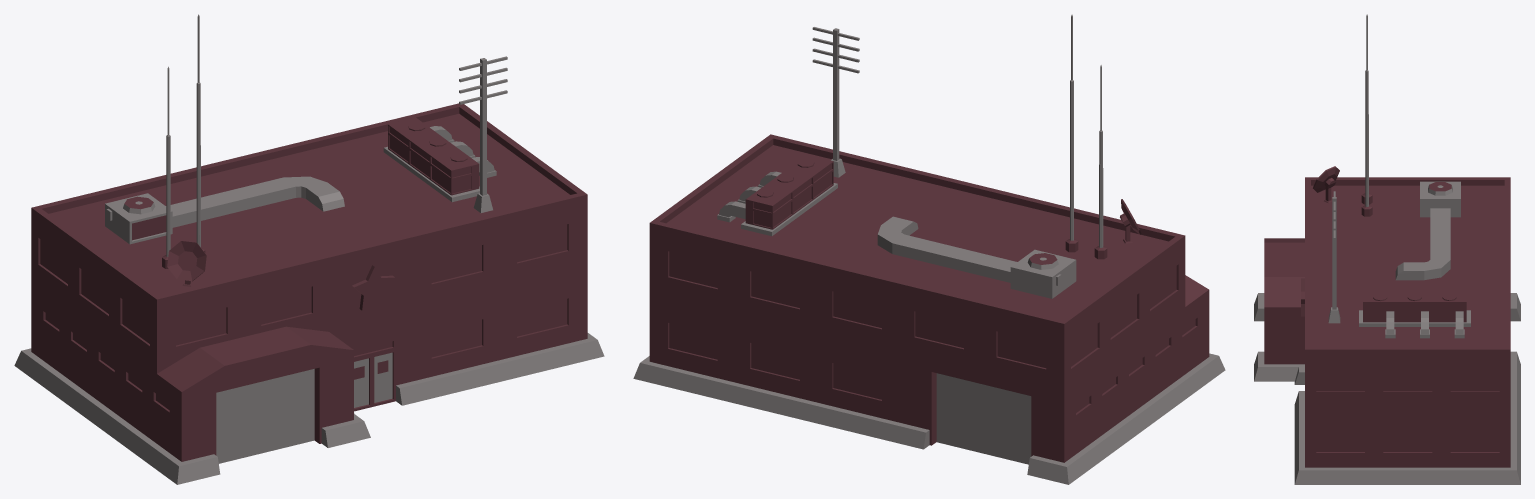
File: military-headquarters.fbx
3 views of the same model, side by side, from view 1: azimuth 30°, elevation 25°; view 2: azimuth 150°, elevation 25°; view 3: azimuth 270°, elevation 25° (orthographic). The views are drawn at different scales.
Parts seen in each view (by area): view 1: military-headquarters; view 2: military-headquarters; view 3: military-headquarters.
Part boxes in pixels (x1=…): military-headquarters: x1=14, y1=14, x2=604, y2=484; military-headquarters: x1=633, y1=14, x2=1225, y2=484; military-headquarters: x1=1254, y1=14, x2=1520, y2=484.
Bounding box in the file's own units: 21 × 17.68 × 13.1.
